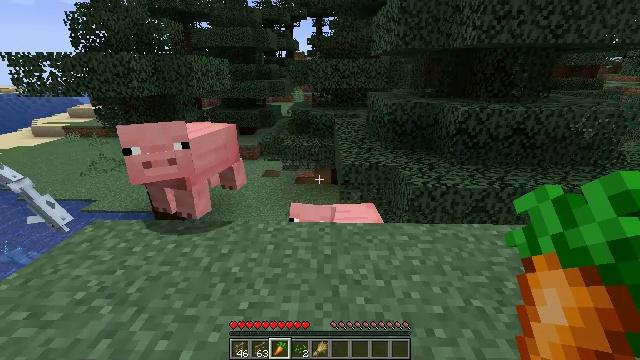pig: (117, 123, 250, 218)
